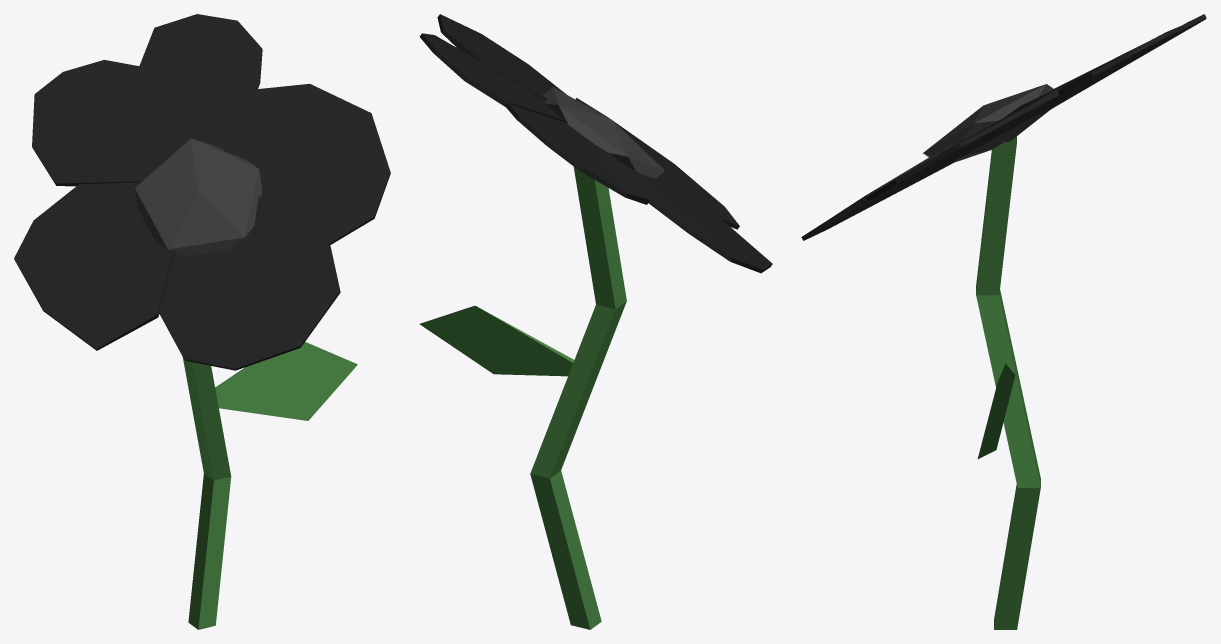
Rendered from Flower_2_Black.fbx.
3 renders of one model, left to right at view 1: azimuth 30°, elevation 25°; view 2: azimuth 150°, elevation 25°; view 3: azimuth 270°, elevation 25°, orthographic. The views are drawn at different scales.
Parts seen in each view (by area): view 1: Flower_2_Black_Part_2, Flower_2_Black_Part_1, Flower_2_Black_Part_3; view 2: Flower_2_Black_Part_1, Flower_2_Black_Part_2, Flower_2_Black_Part_3; view 3: Flower_2_Black_Part_1, Flower_2_Black_Part_2, Flower_2_Black_Part_3.
Boxes of the visible parts, left/top/right/bottom form: Flower_2_Black_Part_2: left=14, top=14, right=390, bottom=370; Flower_2_Black_Part_1: left=183, top=342, right=357, bottom=629; Flower_2_Black_Part_3: left=135, top=138, right=262, bottom=255; Flower_2_Black_Part_1: left=419, top=167, right=626, bottom=629; Flower_2_Black_Part_2: left=419, top=14, right=772, bottom=273; Flower_2_Black_Part_3: left=543, top=87, right=664, bottom=178; Flower_2_Black_Part_1: left=976, top=136, right=1040, bottom=629; Flower_2_Black_Part_2: left=801, top=14, right=1206, bottom=240; Flower_2_Black_Part_3: left=923, top=84, right=1054, bottom=163.
Bounding box in the file's own units: 17.91 × 29.92 × 17.47.
